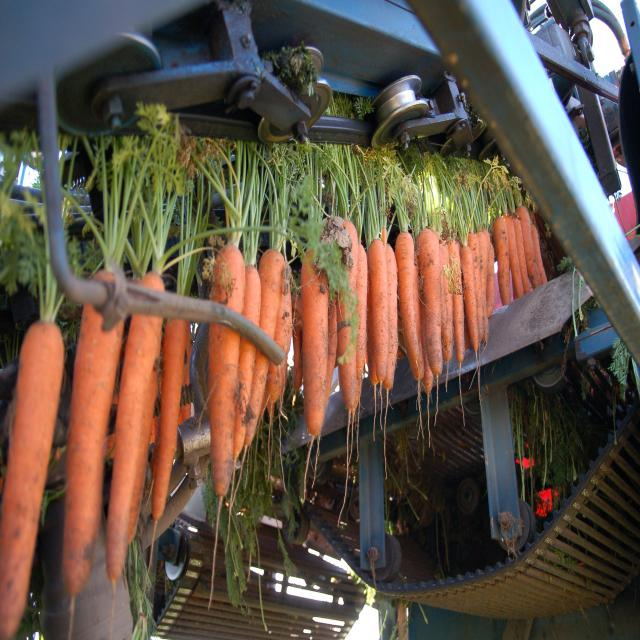Carrot: (52, 128, 142, 640), (96, 133, 182, 640), (0, 142, 70, 640), (136, 147, 217, 573), (203, 146, 289, 524), (199, 138, 258, 515), (325, 138, 387, 459), (296, 142, 337, 502), (382, 147, 432, 432), (362, 157, 408, 440), (430, 165, 473, 403), (410, 157, 442, 408), (449, 168, 484, 395), (488, 190, 543, 325), (472, 182, 508, 334)
